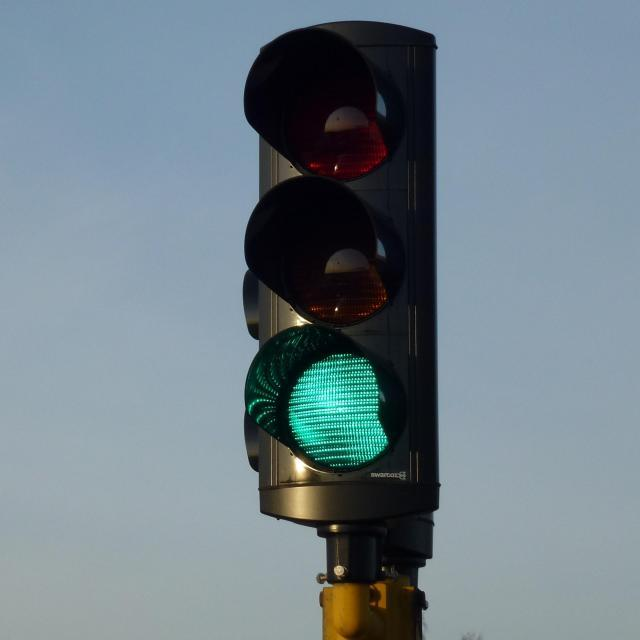green_light: (245, 36, 436, 504)
